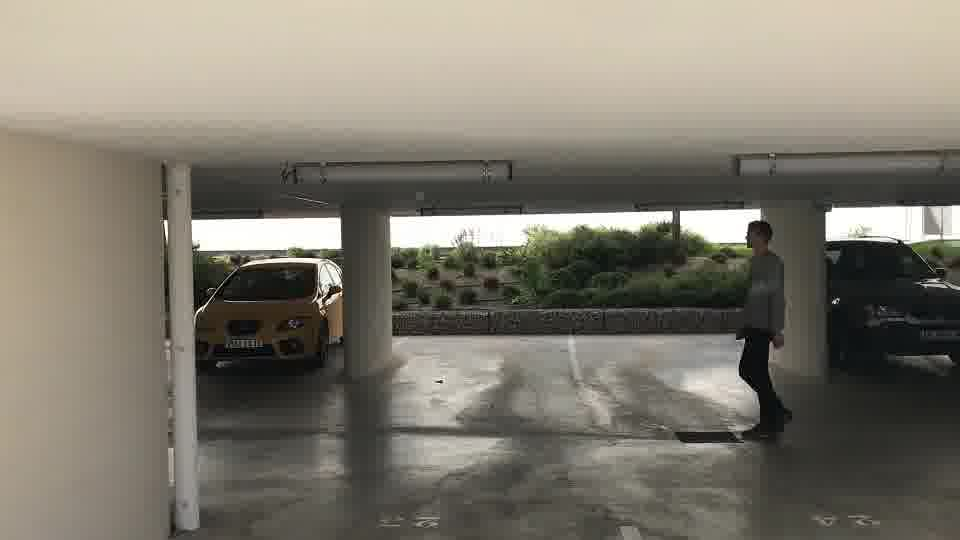jugador: (713, 216, 798, 452)
